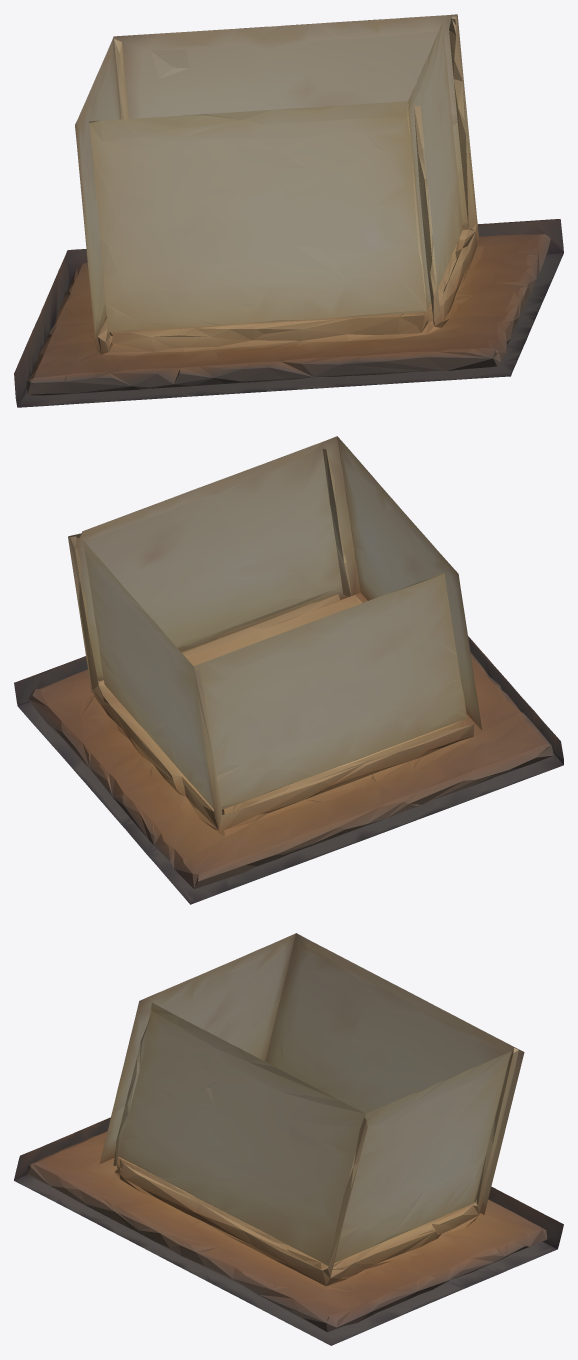
The model's file is step3_before_kpm_original_00.glb.
The picture shows the model from 3 angles, top to bottom: view 1: azimuth 30°, elevation 25°; view 2: azimuth 150°, elevation 25°; view 3: azimuth 270°, elevation 25°; orthographic projection. The views are drawn at different scales.
Parts seen in each view (by area): view 1: world; view 2: world; view 3: world.
Part boxes in pixels (box(x1,y1,x2,y2)): world: box(14, 14, 563, 407); world: box(14, 436, 563, 904); world: box(14, 933, 563, 1345).
Bounding box in the file's own units: 0.35 × 0.1954 × 0.3461.
